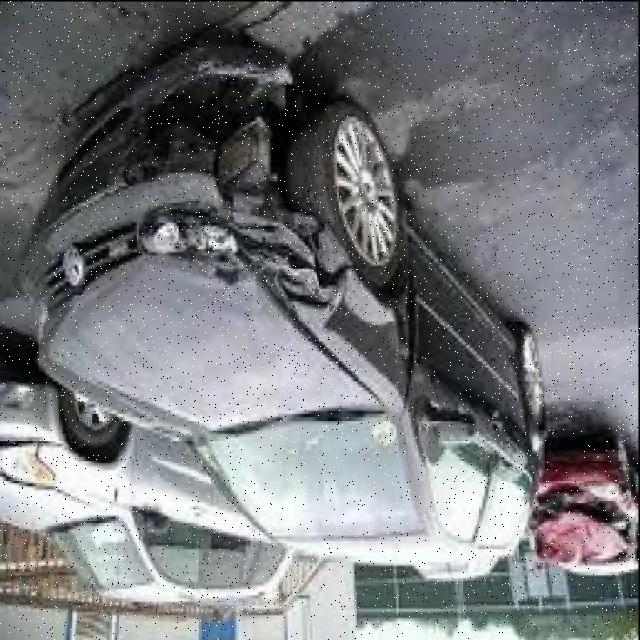damage: (122, 37, 415, 401)
